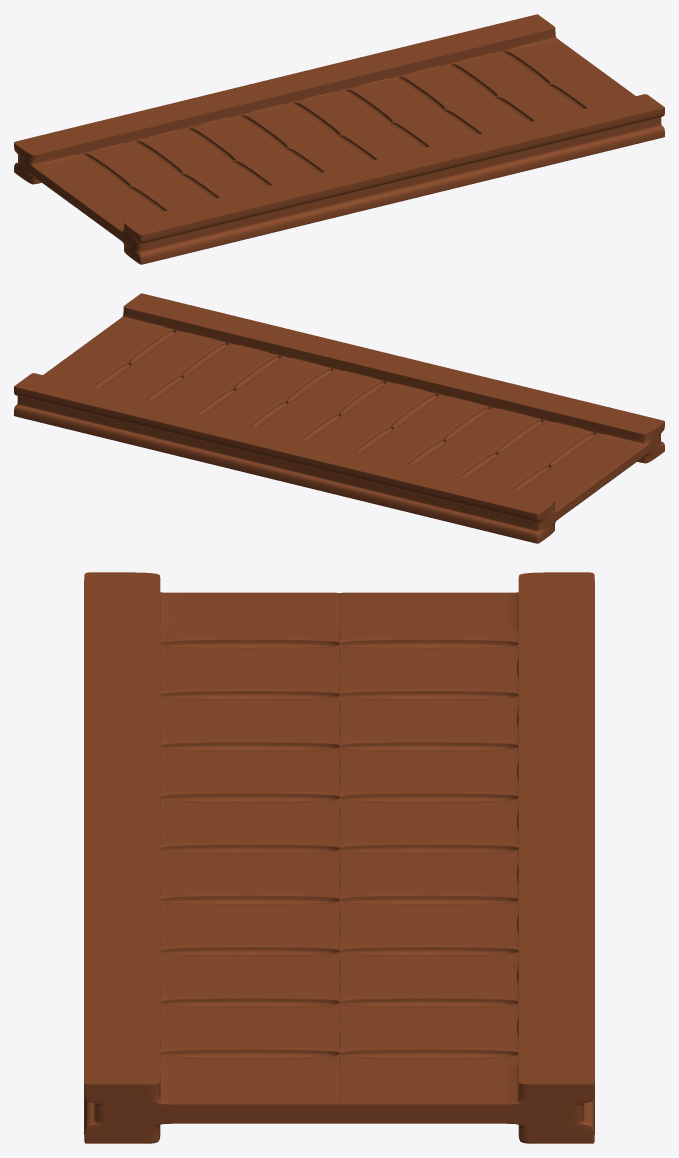
File: Bridge_new03.fbx
3 views of the same model, one above another, from view 1: azimuth 30°, elevation 25°; view 2: azimuth 150°, elevation 25°; view 3: azimuth 270°, elevation 25° (orthographic). The views are drawn at different scales.
Visible parts, largest first — view 1: Cube; view 2: Cube; view 3: Cube.
Part boxes in pixels (x1=…): Cube: x1=14, y1=14, x2=664, y2=264; Cube: x1=14, y1=293, x2=664, y2=543; Cube: x1=84, y1=572, x2=594, y2=1143.
Size of the model in its own units: 3708 by 200 by 1563.
